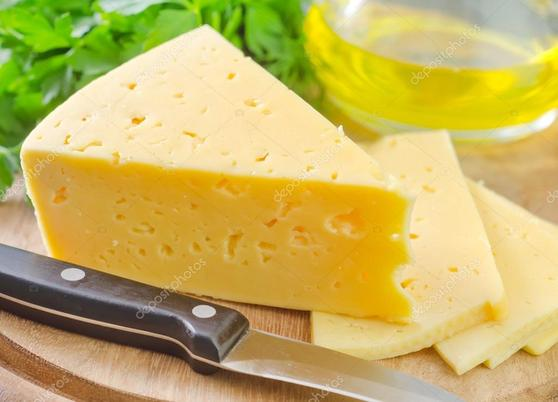cheese: (21, 24, 433, 331)
